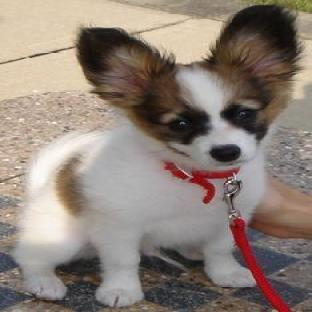Animal: (15, 5, 300, 307)
